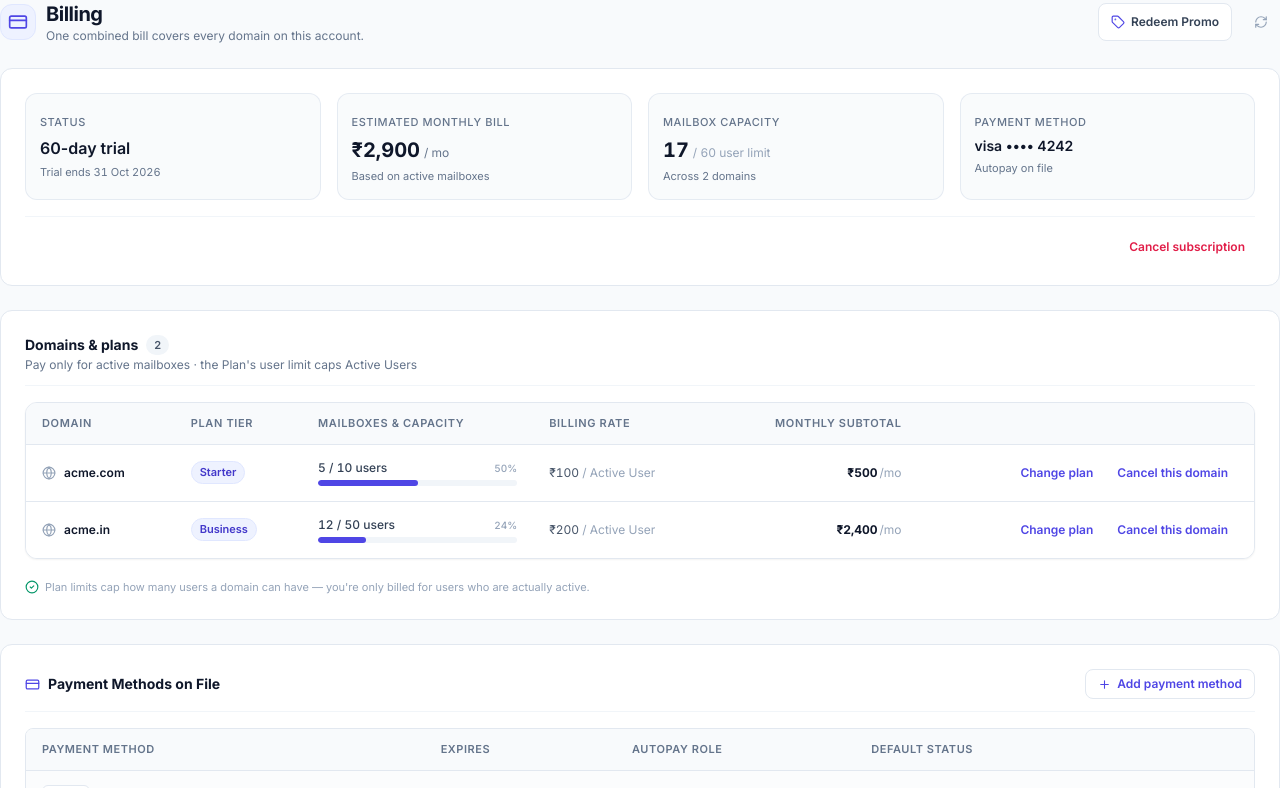
Test: BillingView: changing a domain's Plan › cancelling a domain and choosing a plan again › with other domains billed, says mail stops now; confirming cancels the domain and the row shows cancelled
The image size is (1280, 788).
Click the button "Cancel this domain" in the row of "acme.com".
click(1173, 472)  # box left=1107, top=458, right=1238, bottom=486
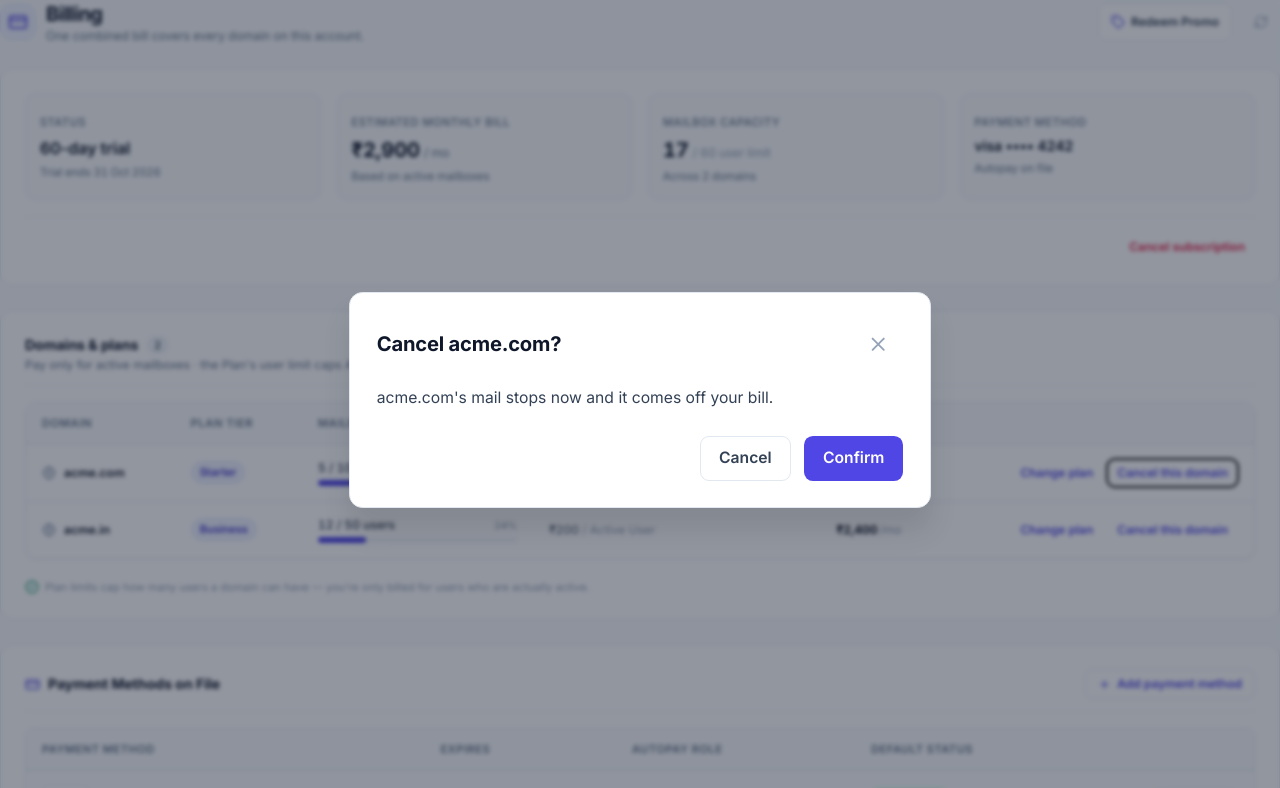
Result: the dialog shows "acme.com's mail stops now and it comes off your bill." at left=377, top=388, right=773, bottom=406
Click the button "Confirm".
click(854, 458)  # box left=804, top=436, right=903, bottom=481
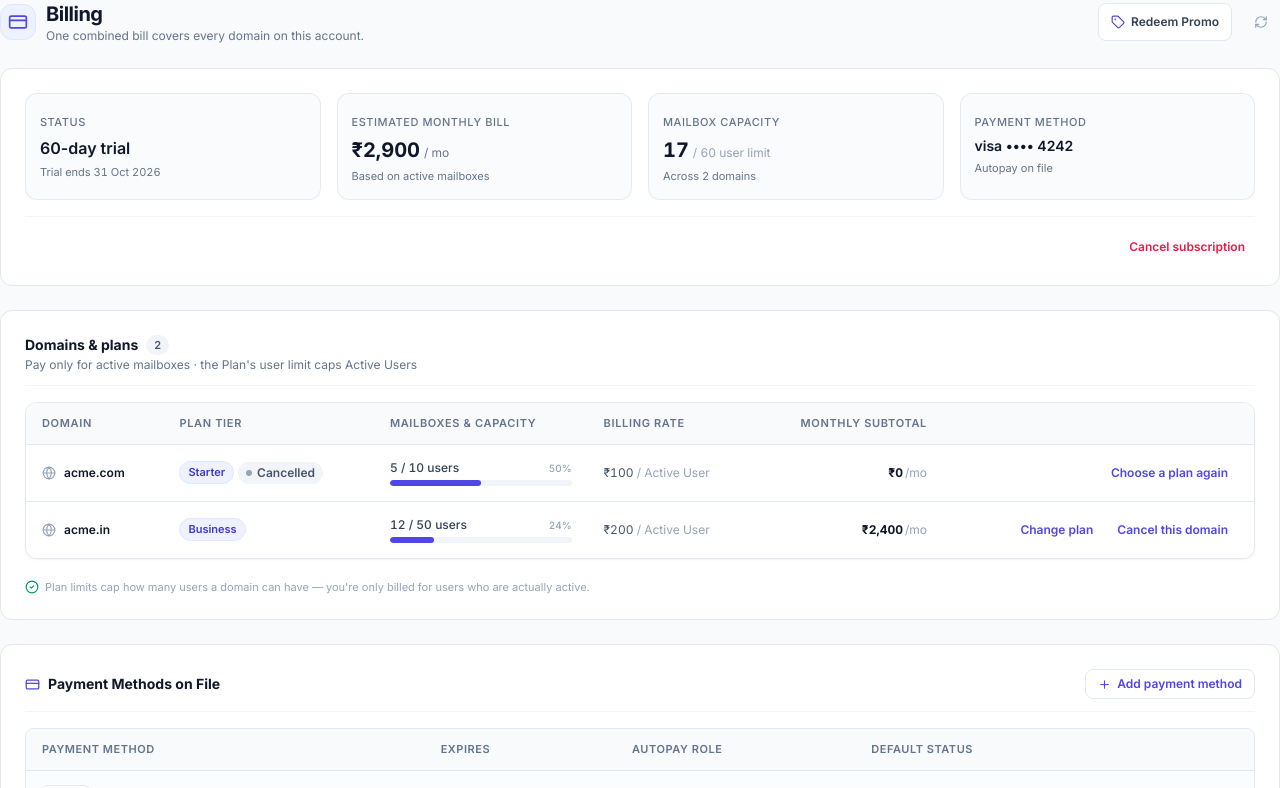
Result: the text "Cancelled" is shown at left=238, top=462, right=323, bottom=484
Result: the text "acme.com" shows "₹0" at left=888, top=465, right=903, bottom=480
Result: the button "Choose a plan again" is shown at left=1101, top=458, right=1238, bottom=486
